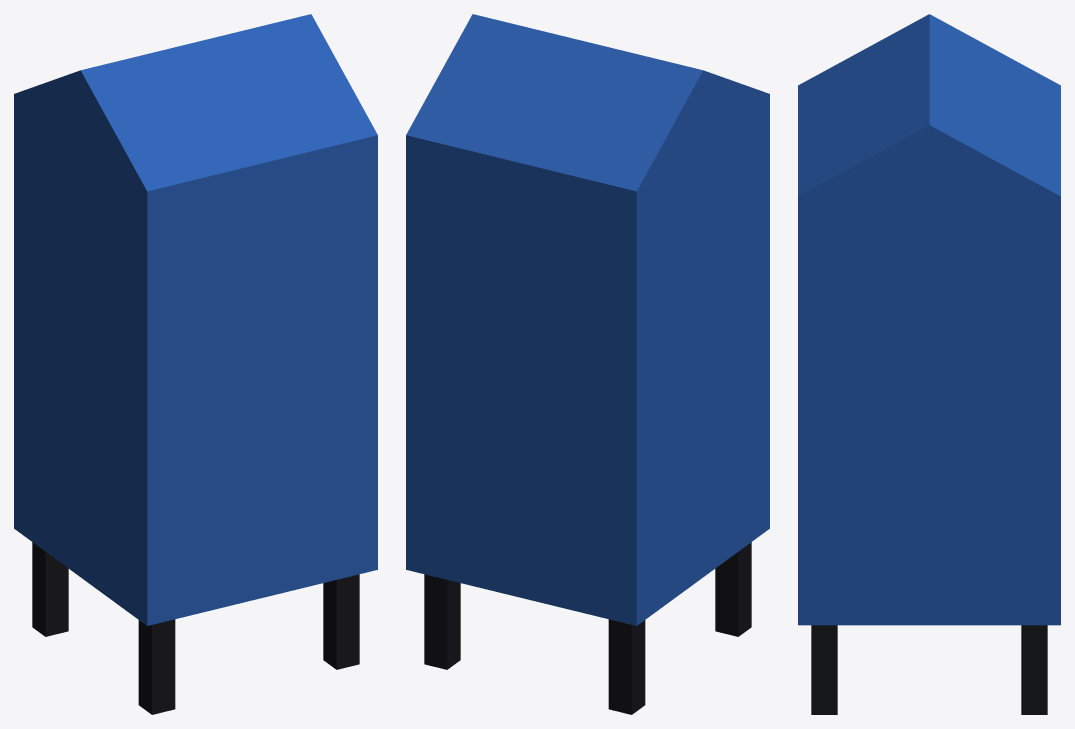
File: prop_mailbox.glb
3 renders of one model, left to right at view 1: azimuth 30°, elevation 25°; view 2: azimuth 150°, elevation 25°; view 3: azimuth 270°, elevation 25°, orthographic.
Visible parts, largest first — view 1: prop_mailbox__mesh; view 2: prop_mailbox__mesh; view 3: prop_mailbox__mesh.
Part boxes in pixels (box(x1,y1,x2,y2)): prop_mailbox__mesh: box(14, 14, 377, 714); prop_mailbox__mesh: box(406, 14, 769, 714); prop_mailbox__mesh: box(798, 14, 1060, 714).
Bounding box in the file's own units: 0.5 × 1.25 × 0.5.
